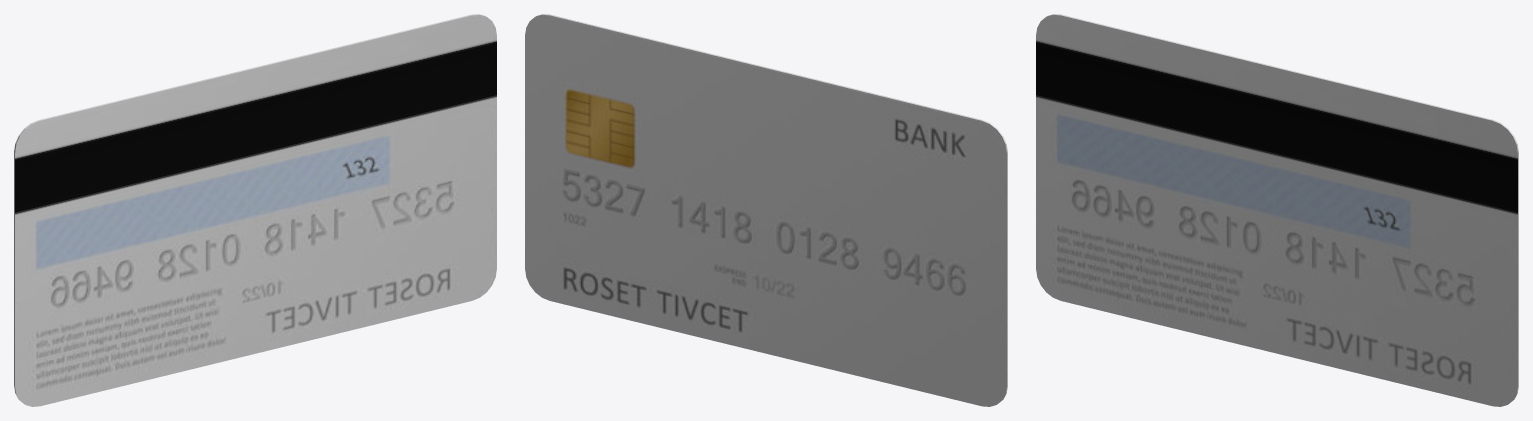
File: credit_card_white.glb
The picture shows the model from 3 angles, left to right: view 1: azimuth 30°, elevation 25°; view 2: azimuth 150°, elevation 25°; view 3: azimuth 330°, elevation 25°; orthographic projection.
Visible parts, largest first — view 1: Credit Card; view 2: Credit Card; view 3: Credit Card.
Part boxes in pixels (x1=…): Credit Card: x1=14, y1=14, x2=496, y2=406; Credit Card: x1=525, y1=14, x2=1007, y2=406; Credit Card: x1=1036, y1=14, x2=1518, y2=406.
Bounding box in the file's own units: 3.05 × 1.73 × 0.0121.
1 material, 1 textured.
